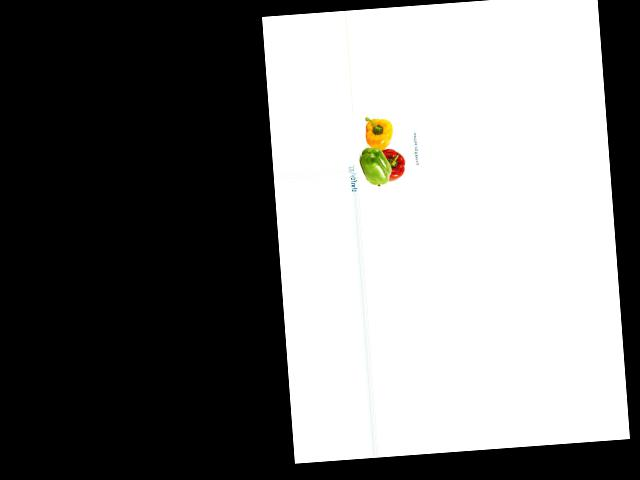bell_pepper: (355, 143, 391, 188)
